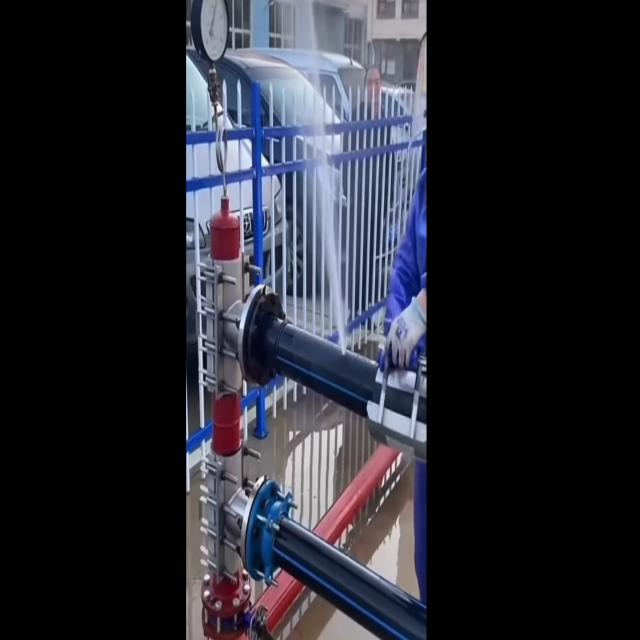leak: (318, 151, 346, 349)
